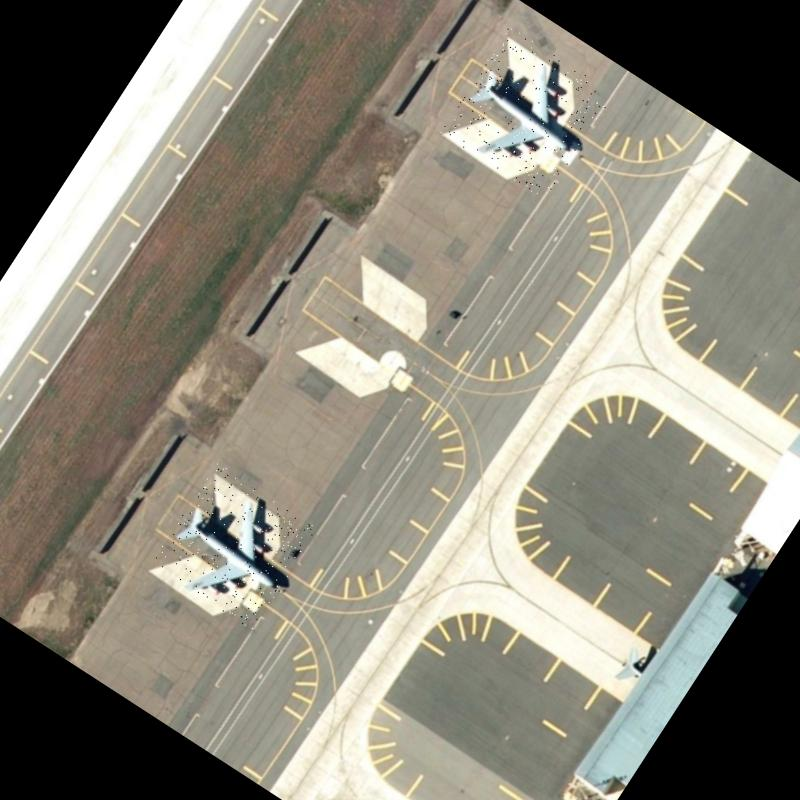A11: (440, 26, 614, 201), (150, 462, 320, 632)
